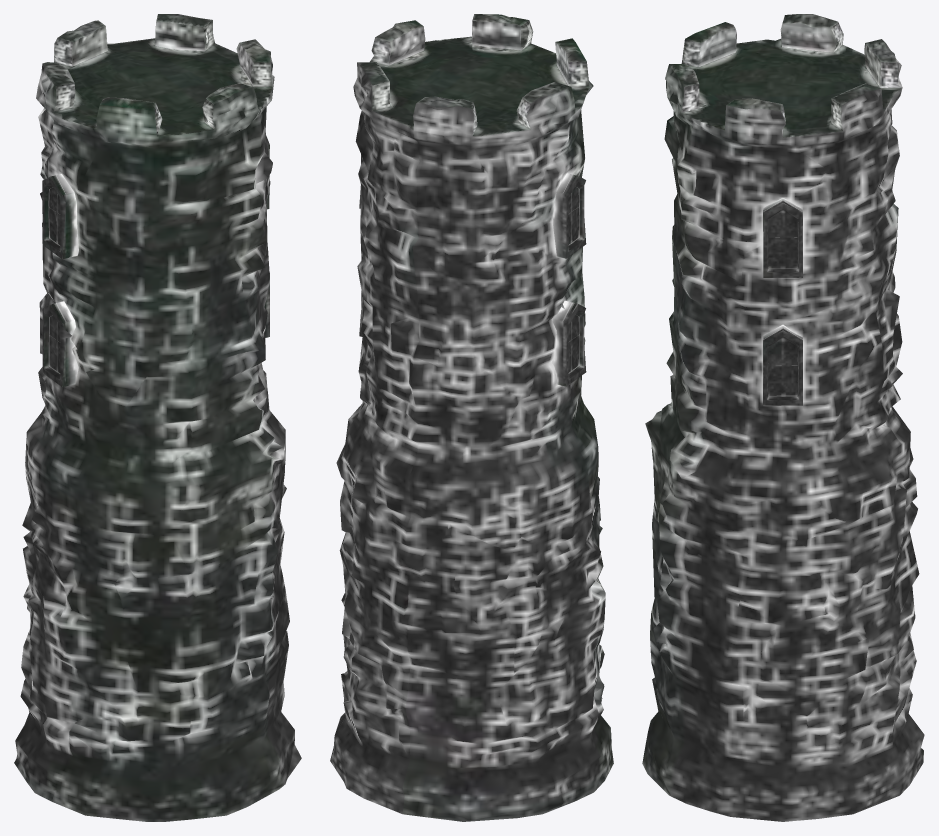
The model's file is BLD_NeuTower_lod.glb.
3 views of the same model, side by side, from view 1: azimuth 30°, elevation 25°; view 2: azimuth 150°, elevation 25°; view 3: azimuth 270°, elevation 25° (orthographic).
Visible parts, largest first — view 1: Tower2_lambert1_0; view 2: Tower2_lambert1_0; view 3: Tower2_lambert1_0.
Boxes of the visible parts, left/top/right/bottom form: Tower2_lambert1_0: left=14, top=14, right=301, bottom=821; Tower2_lambert1_0: left=330, top=14, right=613, bottom=821; Tower2_lambert1_0: left=642, top=14, right=924, bottom=821.
Size of the model in its own units: 318 by 885 by 321.
1 material, 1 textured.
